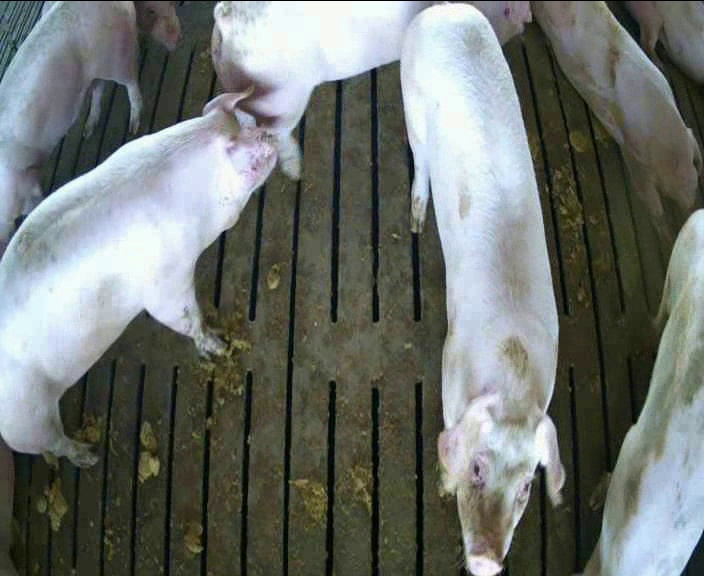pig: (0, 93, 277, 466), (401, 5, 563, 573), (586, 210, 703, 573), (532, 2, 700, 216), (0, 2, 140, 253)
